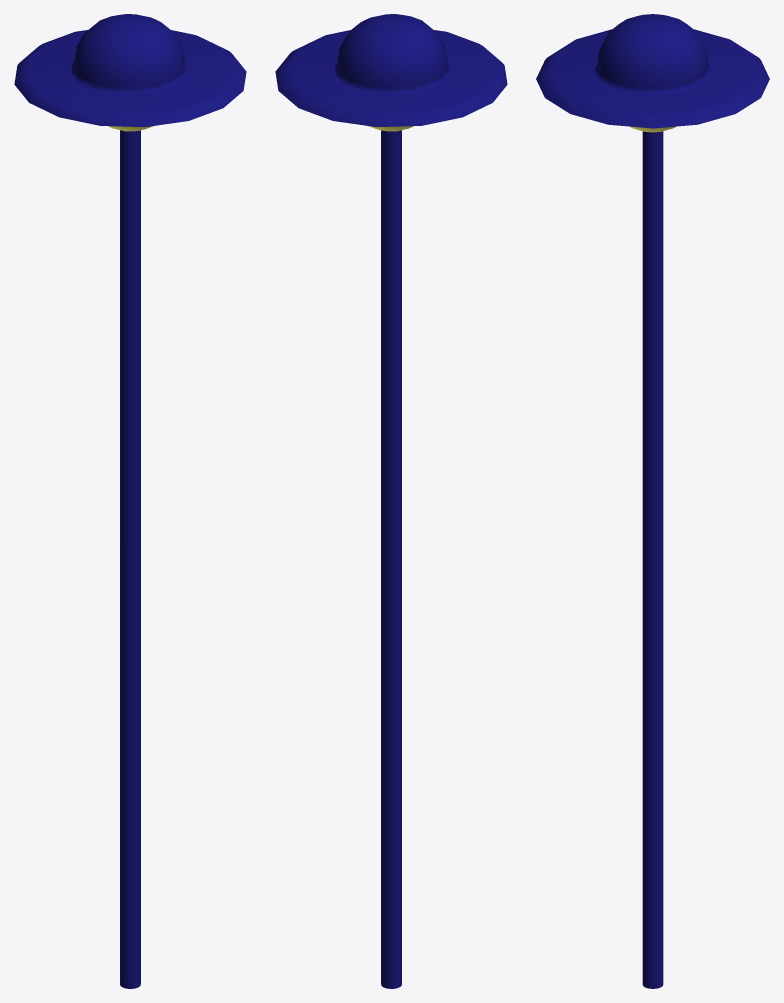
File: lantaarn.fbx
The picture shows the model from 3 angles, left to right: view 1: azimuth 30°, elevation 25°; view 2: azimuth 150°, elevation 25°; view 3: azimuth 270°, elevation 25°; orthographic projection.
Visible parts, largest first — view 1: Sphere; view 2: Sphere; view 3: Sphere.
Part boxes in pixels (x1=…): Sphere: x1=14, y1=14, x2=246, y2=988; Sphere: x1=275, y1=14, x2=507, y2=988; Sphere: x1=536, y1=14, x2=769, y2=988.
Bounding box in the file's own units: 438 × 1988 × 438.
